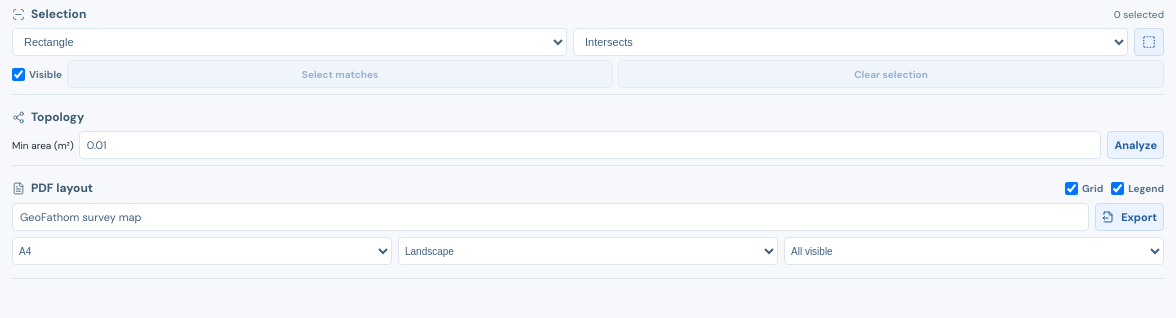
Test case: spatial QA and print › rejects a viewport print before map initialization
Select "Viewport" in the dropdown named "PDF extent": [974, 251] box [784, 237, 1164, 265]
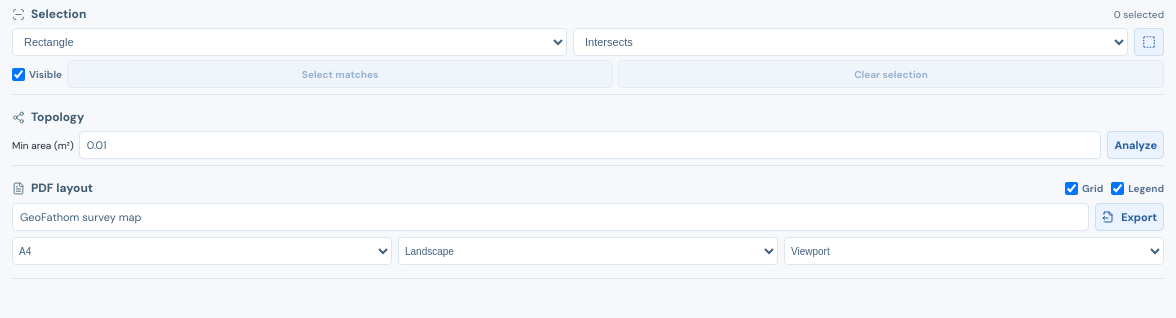
Click the button with aria-label "Export vector PDF": [1130, 217] box [1095, 203, 1164, 231]
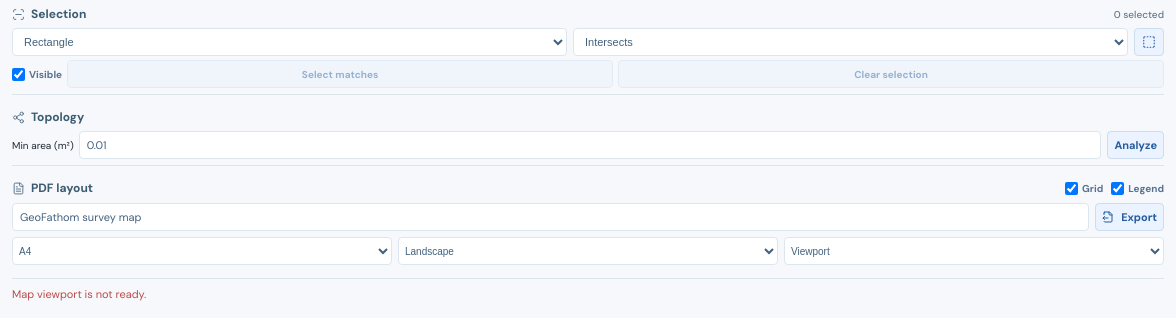
expect the text "Map viewport is not ready." is shown: met, box [12, 287, 146, 301]
